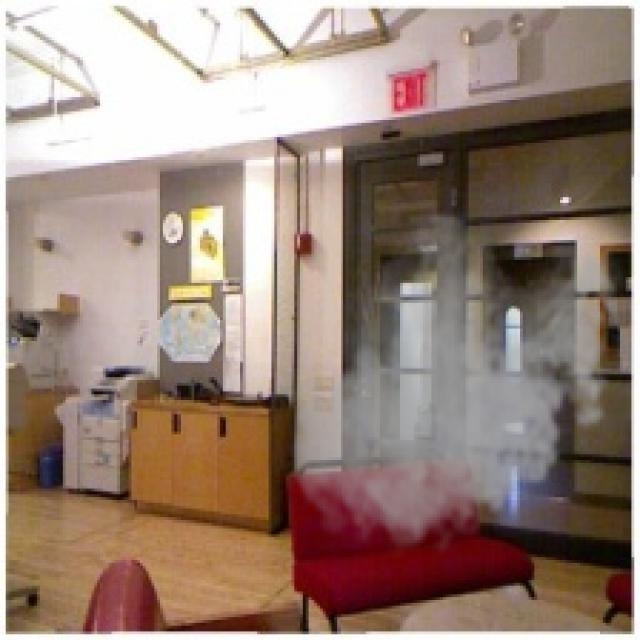smoke: (283, 211, 628, 560)
